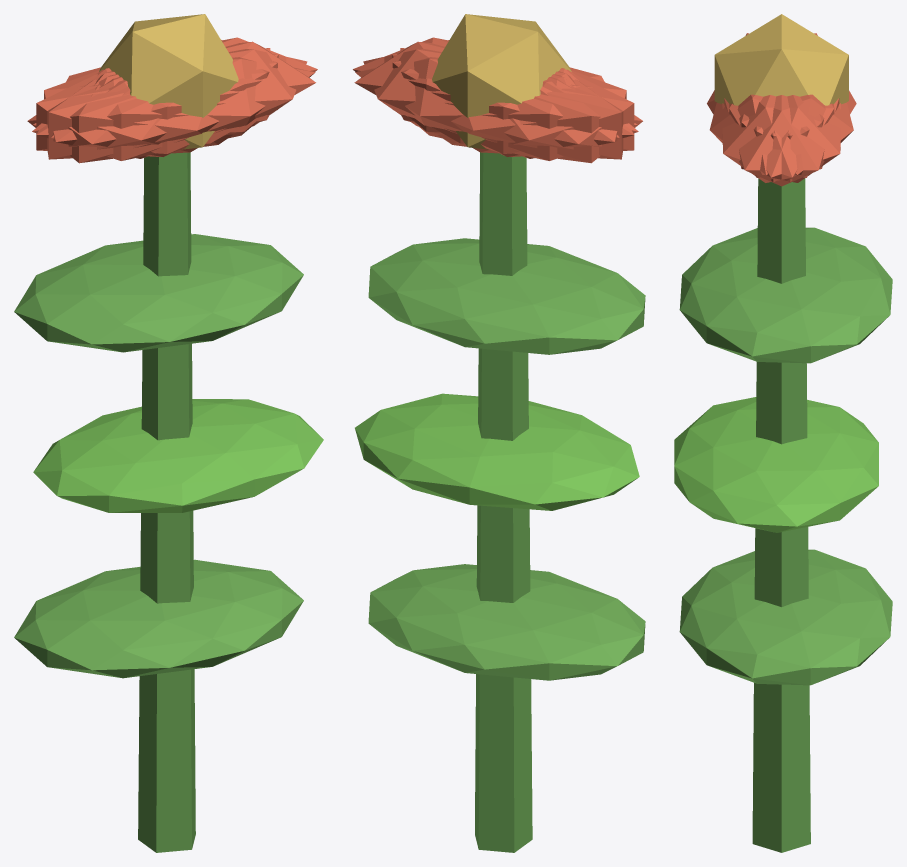
File: brunfelsia-pauciflora.glb
3 views of the same model, side by side, from view 1: azimuth 30°, elevation 25°; view 2: azimuth 150°, elevation 25°; view 3: azimuth 270°, elevation 25° (orthographic).
Parts seen in each view (by area): view 1: stem, leaf2, leaf1, leaf0, center, petal1, petal6, petal2, petal5, petal7, petal0, petal4 (+2 smaller); view 2: stem, leaf2, leaf0, leaf1, center, petal8, petal3, petal7, petal4, petal2, petal0, petal5 (+2 smaller); view 3: stem, leaf2, leaf1, leaf0, center, petal0, petal5, petal4, petal8, petal1.
Boxes of the visible parts, bbox=[...] form: stem: bbox=[138, 152, 195, 852]; leaf2: bbox=[14, 234, 303, 352]; leaf1: bbox=[33, 399, 323, 512]; leaf0: bbox=[14, 559, 303, 678]; center: bbox=[99, 14, 238, 149]; petal1: bbox=[32, 57, 315, 160]; petal6: bbox=[27, 69, 232, 163]; petal2: bbox=[47, 48, 270, 159]; petal5: bbox=[51, 49, 307, 153]; petal7: bbox=[36, 54, 278, 156]; petal0: bbox=[99, 41, 315, 143]; petal4: bbox=[33, 37, 317, 135]; stem: bbox=[475, 152, 532, 852]; leaf2: bbox=[368, 238, 645, 354]; leaf0: bbox=[368, 564, 645, 680]; leaf1: bbox=[355, 393, 639, 510]; center: bbox=[432, 14, 571, 149]; petal8: bbox=[355, 57, 638, 160]; petal3: bbox=[438, 69, 642, 163]; petal7: bbox=[400, 48, 623, 159]; petal4: bbox=[363, 49, 619, 153]; petal2: bbox=[392, 54, 634, 157]; petal0: bbox=[354, 41, 571, 143]; petal5: bbox=[353, 37, 637, 135]; stem: bbox=[752, 178, 810, 852]; leaf2: bbox=[679, 227, 892, 363]; leaf1: bbox=[674, 397, 878, 532]; leaf0: bbox=[679, 549, 892, 685]; center: bbox=[714, 14, 848, 105]; petal0: bbox=[724, 95, 839, 186]; petal5: bbox=[722, 95, 834, 182]; petal4: bbox=[729, 95, 840, 182]; petal8: bbox=[739, 94, 853, 175]; petal1: bbox=[709, 94, 824, 175].
Bounding box in the file's own units: 0.1454 × 0.4069 × 0.0997.
